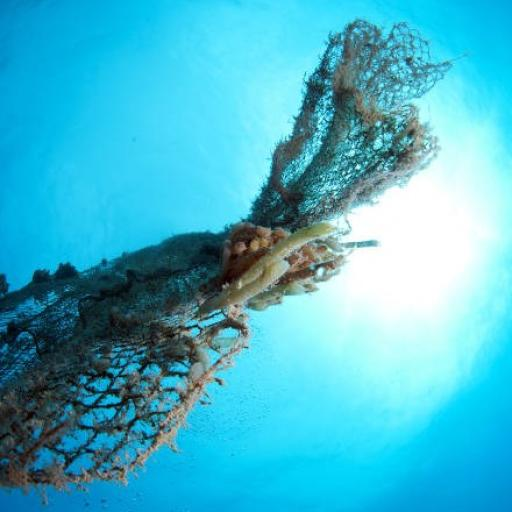net: (0, 0, 461, 496)
